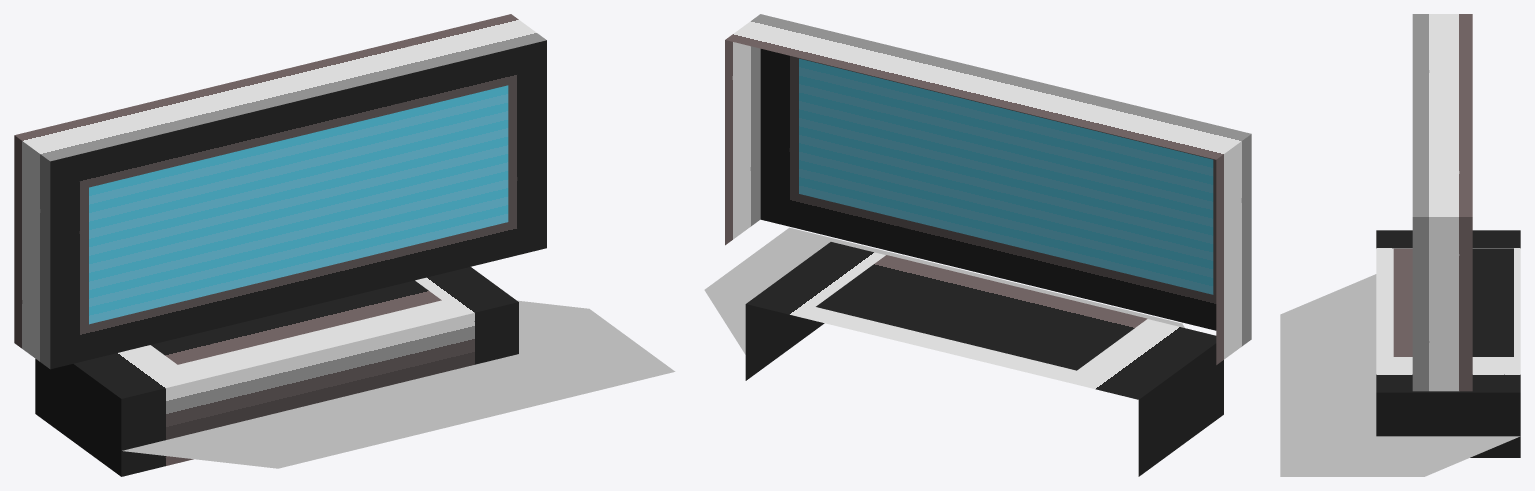
The picture shows the model from 3 angles, left to right: view 1: azimuth 30°, elevation 25°; view 2: azimuth 150°, elevation 25°; view 3: azimuth 270°, elevation 25°; orthographic projection. The views are drawn at different scales.
Visible parts, largest first — view 1: polygon0, polygon2, polygon1; view 2: polygon0, polygon2, polygon1; view 3: polygon0, polygon1.
Part boxes in pixels (<box>): polygon0: <box>14,14,546,476</box>; polygon2: <box>89,85,508,324</box>; polygon1: <box>122,300,675,468</box>; polygon0: <box>725,14,1251,476</box>; polygon2: <box>799,58,1213,294</box>; polygon1: <box>704,227,1184,354</box>; polygon0: <box>1376,14,1520,457</box>; polygon1: <box>1280,274,1519,476</box>.
Bounding box in the file's own units: 11 × 6 × 5.
